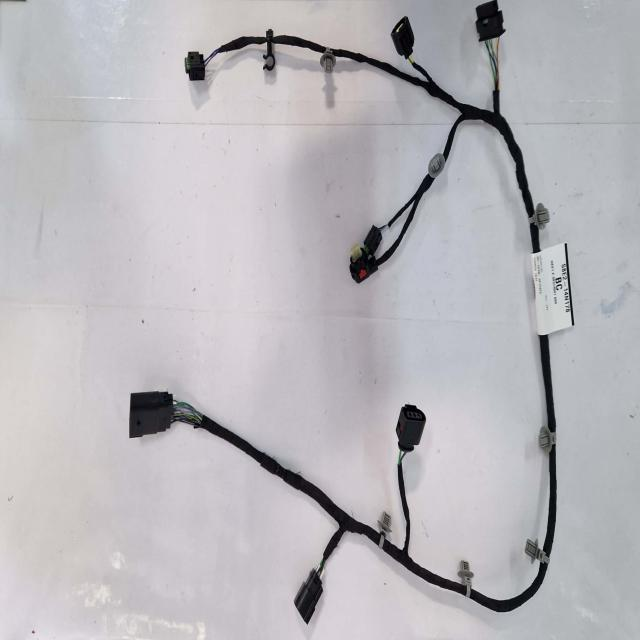Clip: (525, 539, 550, 564), (458, 560, 474, 598), (529, 203, 550, 230), (262, 29, 275, 71), (378, 510, 391, 550), (539, 425, 556, 452), (320, 48, 336, 73), (429, 154, 445, 178)
Connector: (129, 390, 174, 438), (294, 569, 322, 625), (396, 405, 426, 452), (476, 0, 505, 41), (391, 17, 414, 58), (185, 52, 205, 81)
Gape: (171, 400, 202, 427), (485, 37, 500, 89), (204, 48, 220, 66)
Info: (531, 243, 574, 334)
MHEV_N11_Cable: (186, 29, 540, 282), (198, 415, 376, 622), (468, 334, 556, 612), (385, 409, 465, 593)
